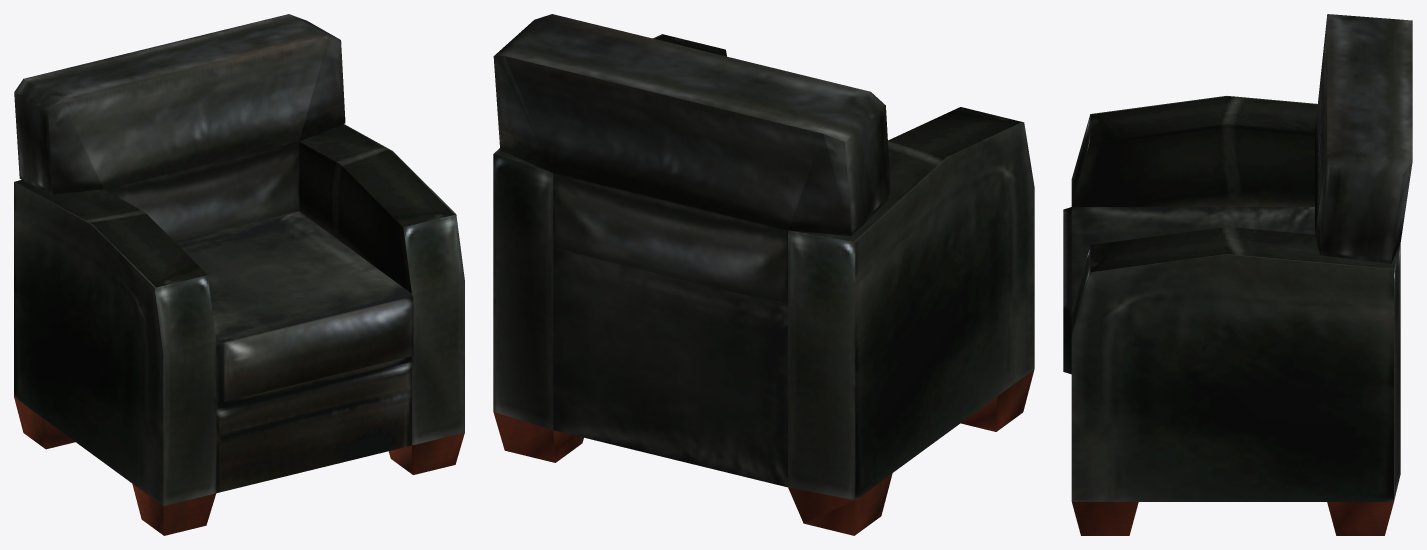
Rendered from Furniture_Chair1.fbx.
3 renders of one model, left to right at view 1: azimuth 30°, elevation 25°; view 2: azimuth 150°, elevation 25°; view 3: azimuth 270°, elevation 25°, orthographic. The views are drawn at different scales.
Parts seen in each view (by area): view 1: Empty_Mesh; view 2: Empty_Mesh; view 3: Empty_Mesh.
Part boxes in pixels (<box>): Empty_Mesh: <box>14,14,464,535</box>; Empty_Mesh: <box>493,14,1034,535</box>; Empty_Mesh: <box>1063,14,1412,535</box>.
Size of the model in its own units: 73130 by 80504 by 67978.
